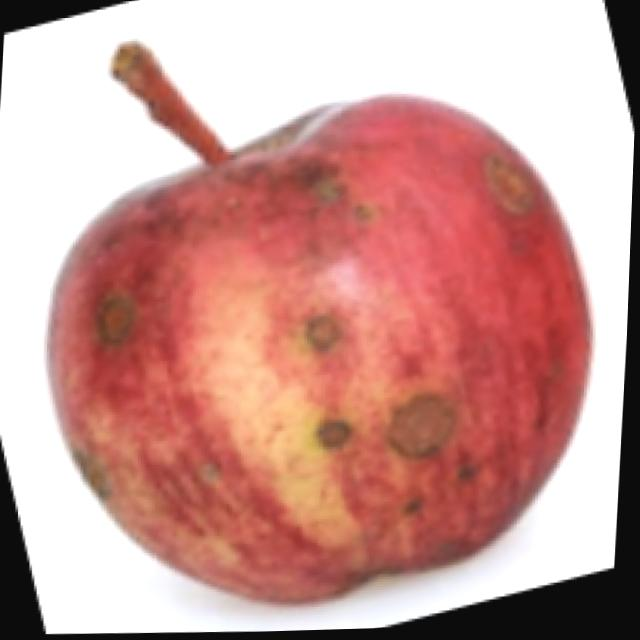organik: (17, 79, 612, 605)
